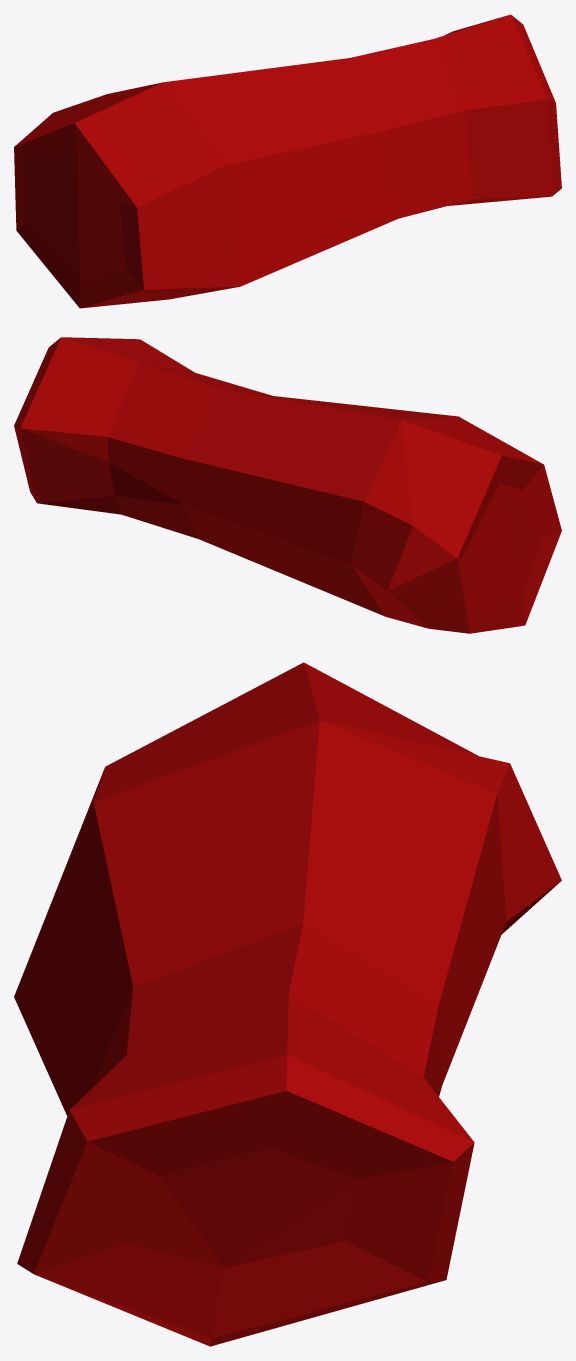
The model's file is Chr_ArmLowerLeft_Male_Static_17.fbx.
3 renders of one model, top to bottom at view 1: azimuth 30°, elevation 25°; view 2: azimuth 150°, elevation 25°; view 3: azimuth 270°, elevation 25°, orthographic. The views are drawn at different scales.
Parts seen in each view (by area): view 1: Chr_ArmLowerLeft_Male_17; view 2: Chr_ArmLowerLeft_Male_17; view 3: Chr_ArmLowerLeft_Male_17.
Boxes of the visible parts, x1,y1,x2,y2 form: Chr_ArmLowerLeft_Male_17: [14, 14, 561, 308]; Chr_ArmLowerLeft_Male_17: [14, 337, 561, 633]; Chr_ArmLowerLeft_Male_17: [14, 662, 561, 1346].
Bounding box in the file's own units: 29.6 × 12.21 × 16.
